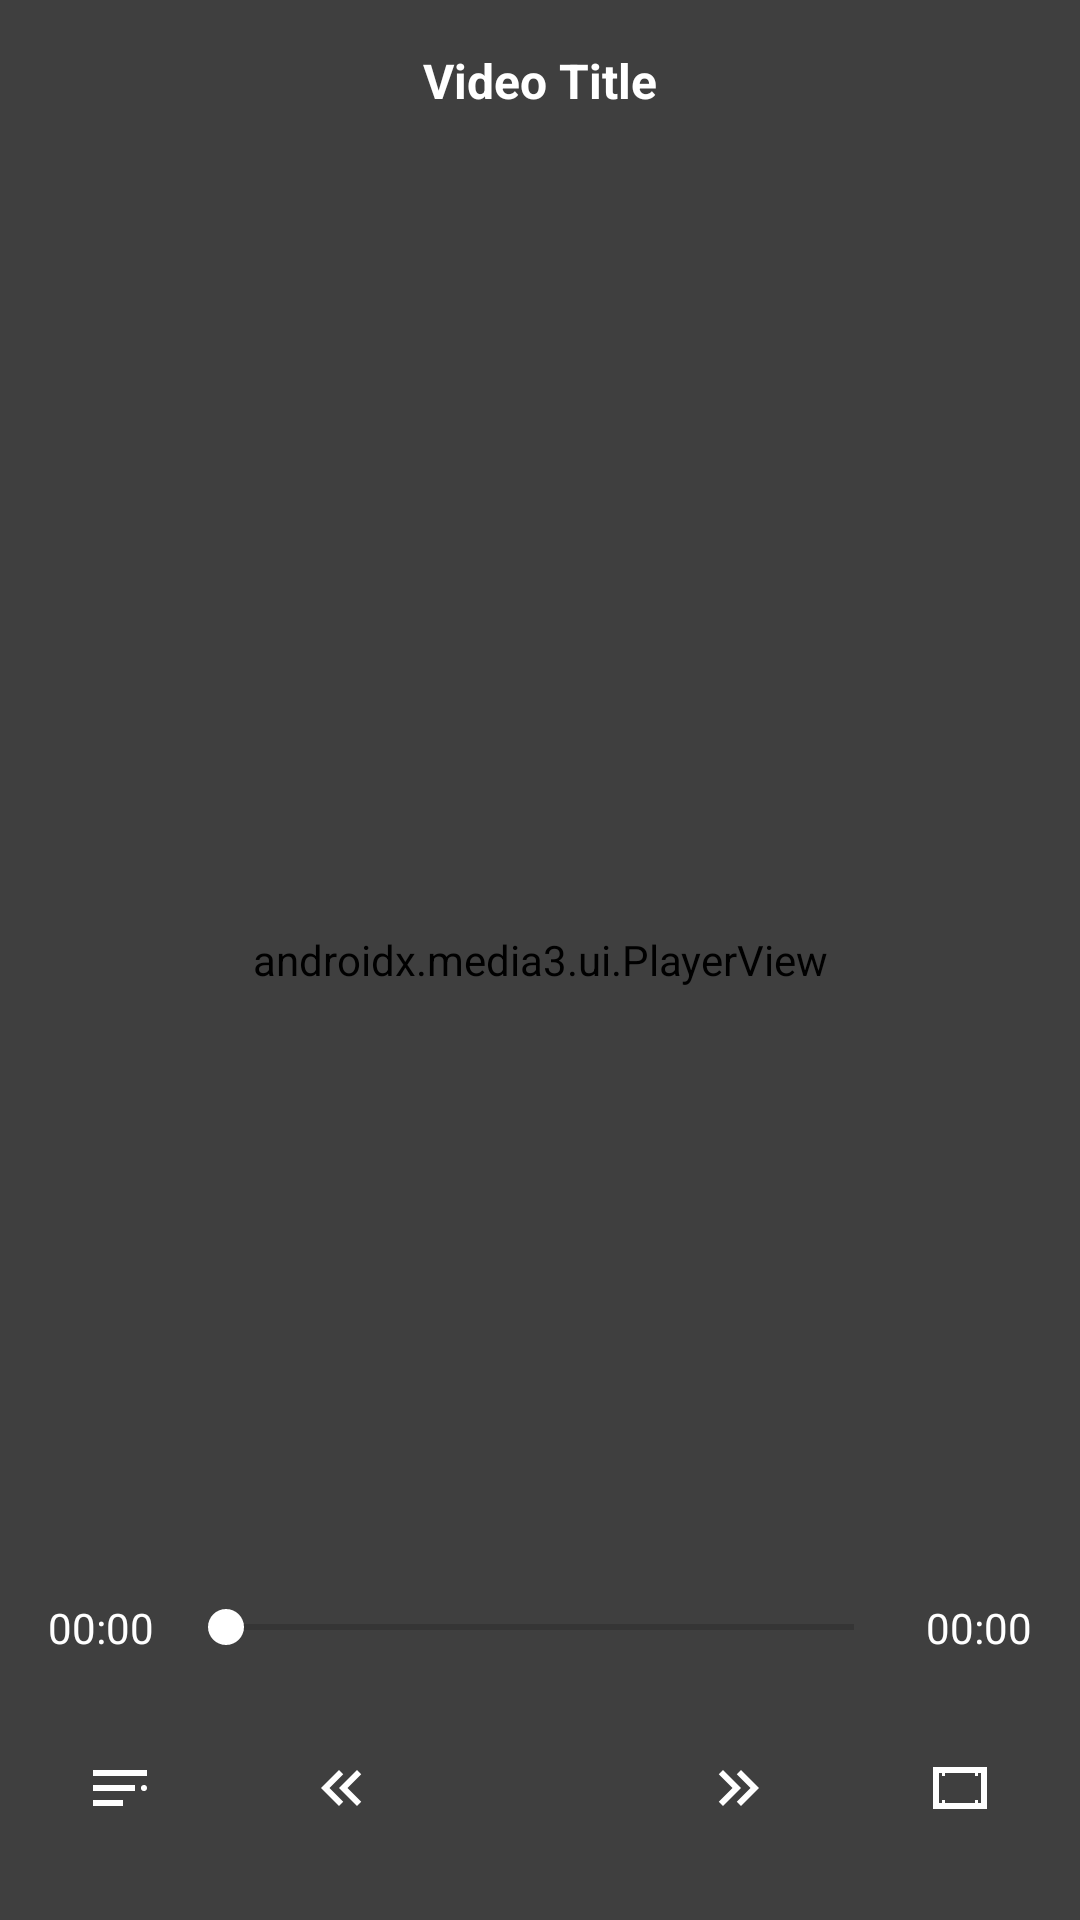

Named icons in this screenshot (1080*1920) and their centers, (x=x, y=y):
Aspect Ratio: (x=960, y=1788)
Skip Backward: (x=341, y=1788)
Skip Forward: (x=739, y=1788)
Tracks: (x=120, y=1788)
